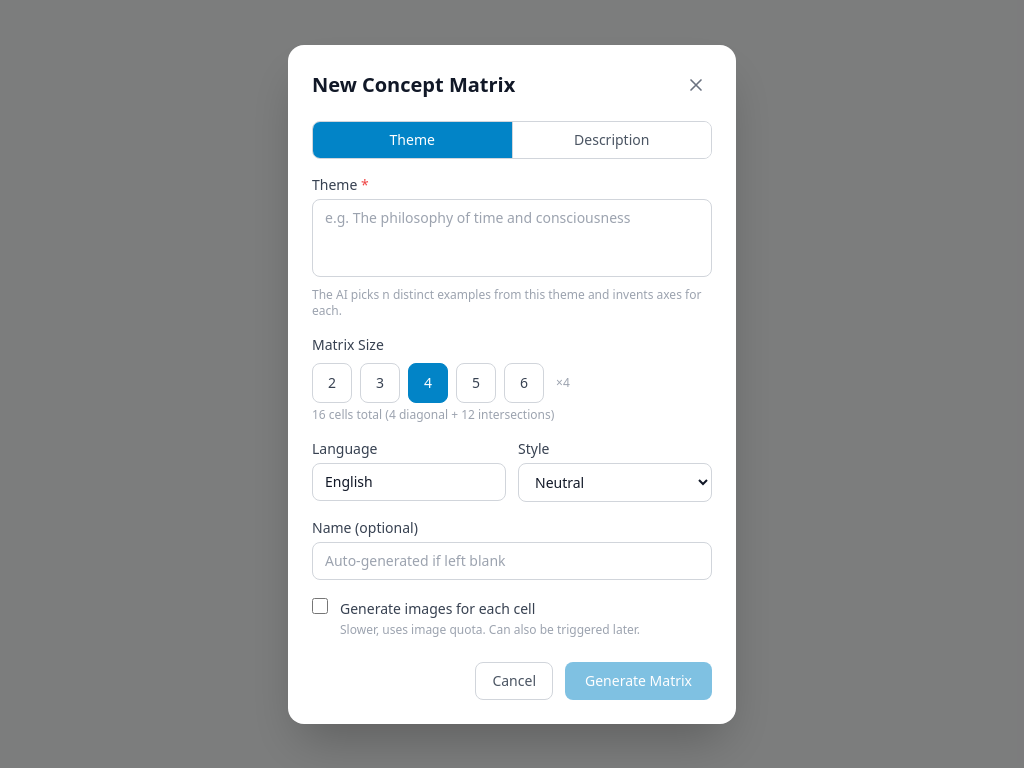
Test case: NewMatrixModal — mode toggle visibility › switches to Description input when Description tab is clicked
Step 1. Click the button "Description" → (611, 140), box [512,122,711,158]
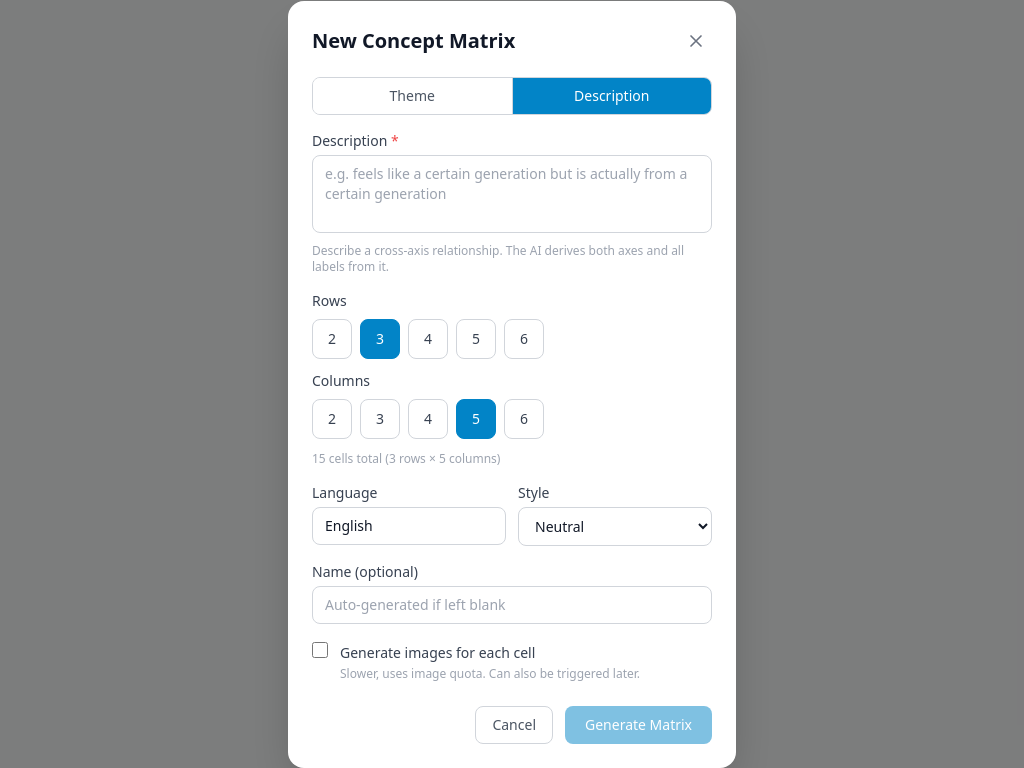
Expected: the field with placeholder "philosophy of time" is not shown
Result: the text box with placeholder "feels like a certain" is shown at [312,154,712,232]
